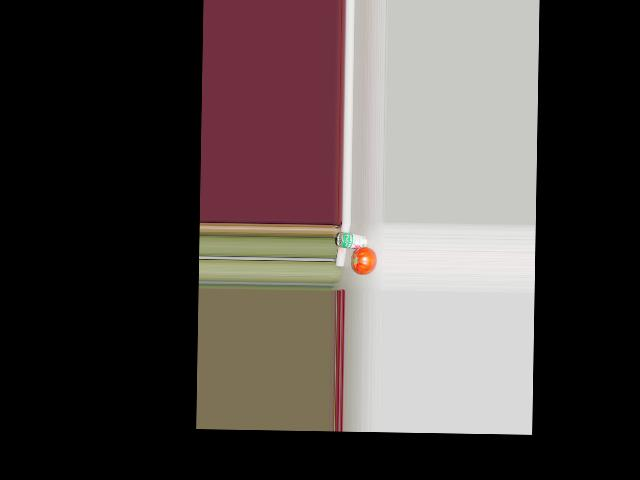tomato: (352, 247, 377, 275)
